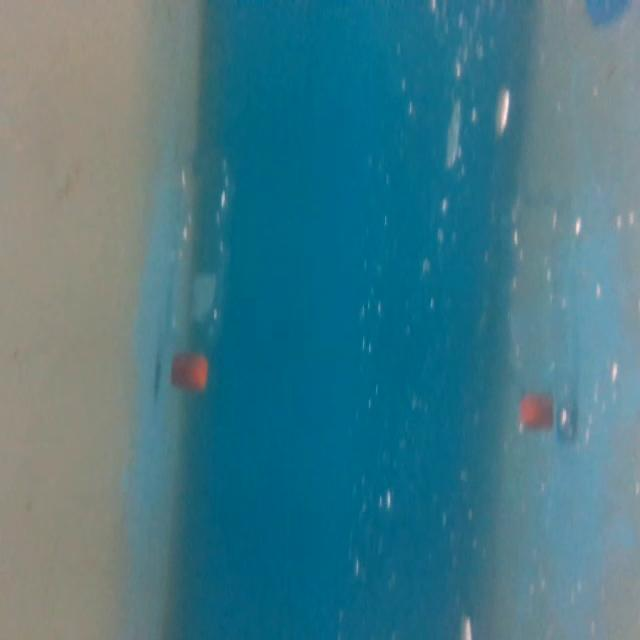plastic bottle: (158, 141, 242, 399)
